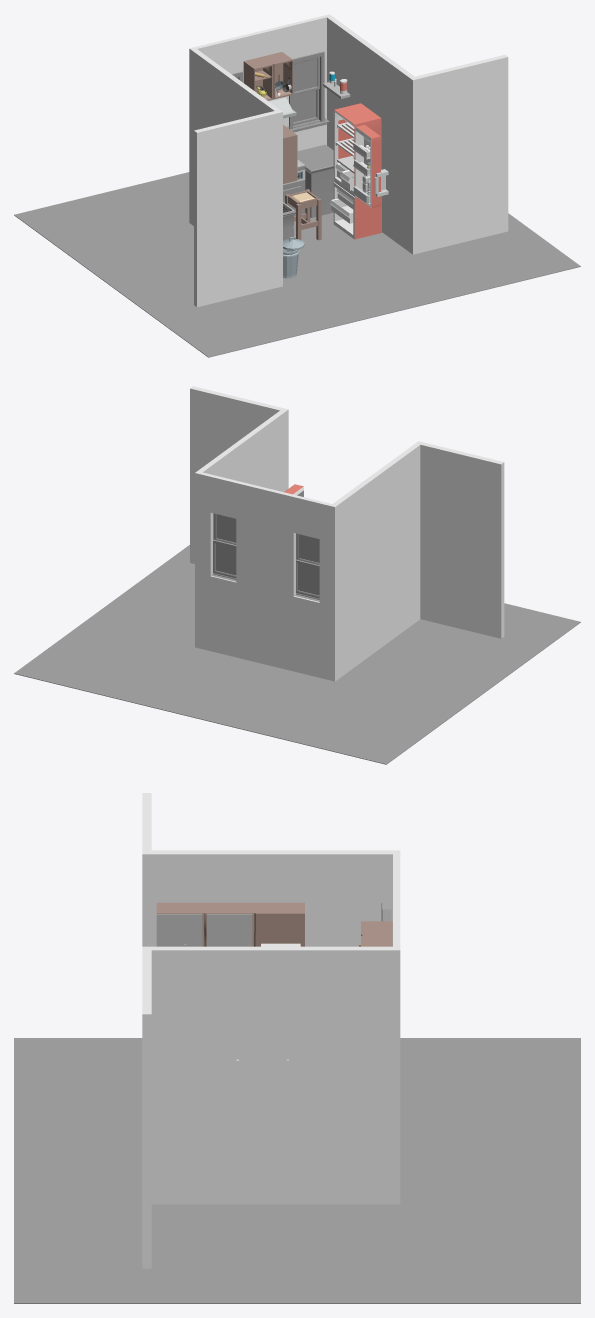
File: kitchen.fbx
3 views of the same model, one above another, from view 1: azimuth 30°, elevation 25°; view 2: azimuth 150°, elevation 25°; view 3: azimuth 270°, elevation 25° (orthographic). The views are drawn at different scales.
Visible parts, largest first — view 1: wall, pasted__floor, fridge, dulltable1, cab, pasted__mesh_2146895710, cab1, WindowObjekt_02Glass1, WindowObjekt_03Glass, polySurface1; view 2: wall, pasted__floor, Double_Hung_Window:WindowObjekt_03Glass, WindowObjekt_03Glass, WindowObjekt_02Glass1, Double_Hung_Window:WindowObjekt_02Glass1; view 3: pasted__floor, wall, cab1, pasted__pasted__mesh_2146895735 (×2), cab.
Boxes of the visible parts, left/top/right/bottom form: wall: left=189, top=14, right=508, bottom=307; pasted__floor: left=14, top=172, right=580, bottom=357; fridge: left=330, top=103, right=381, bottom=239; dulltable1: left=297, top=144, right=334, bottom=217; cab: left=243, top=52, right=292, bottom=100; pasted__mesh_2146895710: left=355, top=124, right=380, bottom=207; cab1: left=283, top=125, right=297, bottom=183; WindowObjekt_02Glass1: left=294, top=59, right=317, bottom=91; WindowObjekt_03Glass: left=293, top=90, right=315, bottom=122; polySurface1: left=283, top=160, right=305, bottom=215; wall: left=190, top=386, right=504, bottom=681; pasted__floor: left=14, top=545, right=580, bottom=764; Double_Hung_Window:WindowObjekt_03Glass: left=298, top=563, right=319, bottom=595; WindowObjekt_03Glass: left=215, top=543, right=236, bottom=575; WindowObjekt_02Glass1: left=216, top=514, right=236, bottom=542; Double_Hung_Window:WindowObjekt_02Glass1: left=299, top=534, right=319, bottom=562; pasted__floor: left=14, top=1038, right=580, bottom=1303; wall: left=142, top=793, right=400, bottom=1268; cab1: left=156, top=902, right=304, bottom=946; pasted__pasted__mesh_2146895735 (×2): left=156, top=914, right=252, bottom=946; cab: left=361, top=921, right=392, bottom=946.
Size of the model in its own units: 696 by 330 by 629.
